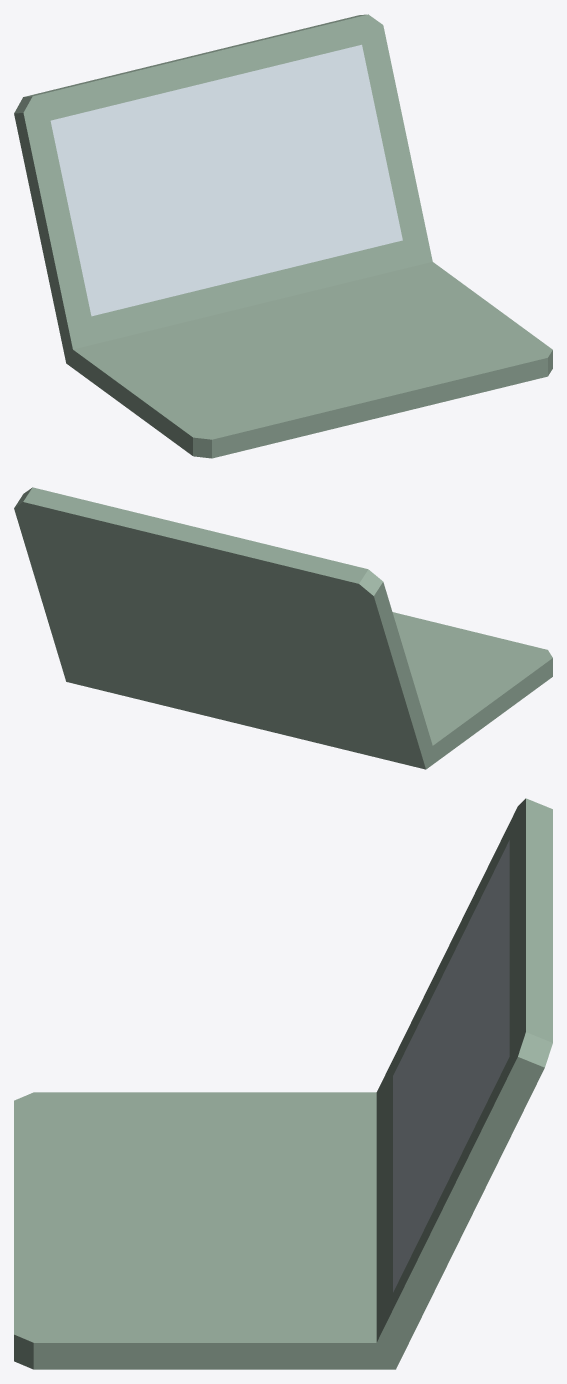
The model's file is laptop.glb.
3 renders of one model, top to bottom at view 1: azimuth 30°, elevation 25°; view 2: azimuth 150°, elevation 25°; view 3: azimuth 270°, elevation 25°, orthographic. The views are drawn at different scales.
Visible parts, largest first — view 1: laptop(Clone); view 2: laptop(Clone); view 3: laptop(Clone).
Part boxes in pixels (bbox=[...]): laptop(Clone): bbox=[14, 14, 552, 458]; laptop(Clone): bbox=[14, 487, 552, 769]; laptop(Clone): bbox=[14, 798, 552, 1369].
Bounding box in the file's own units: 0.264 × 0.1618 × 0.2401.
